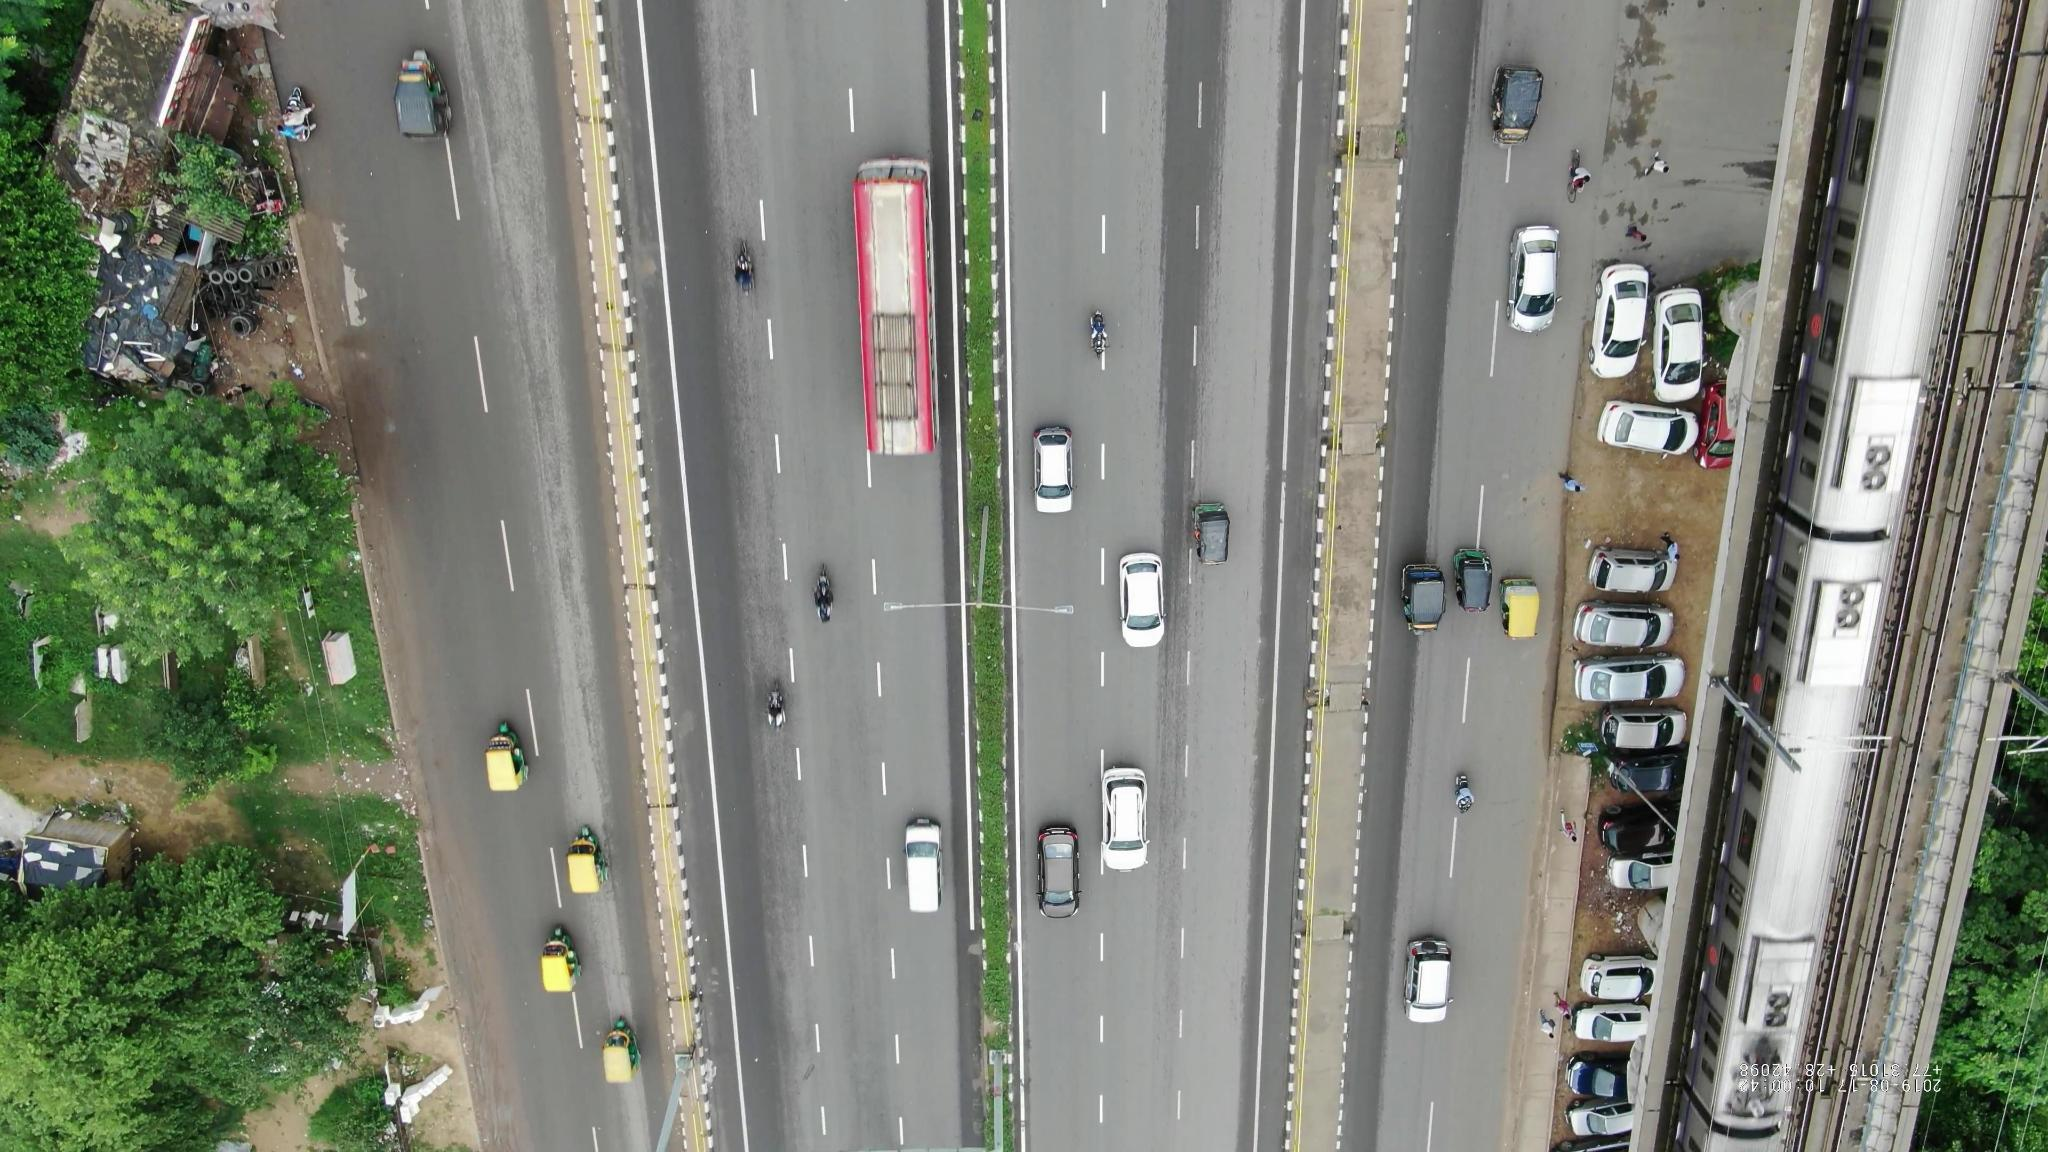Muddy_road: (446, 911, 515, 1097)
